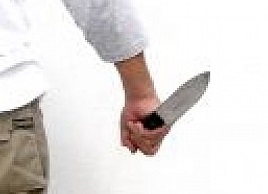knife: (117, 67, 213, 162)
